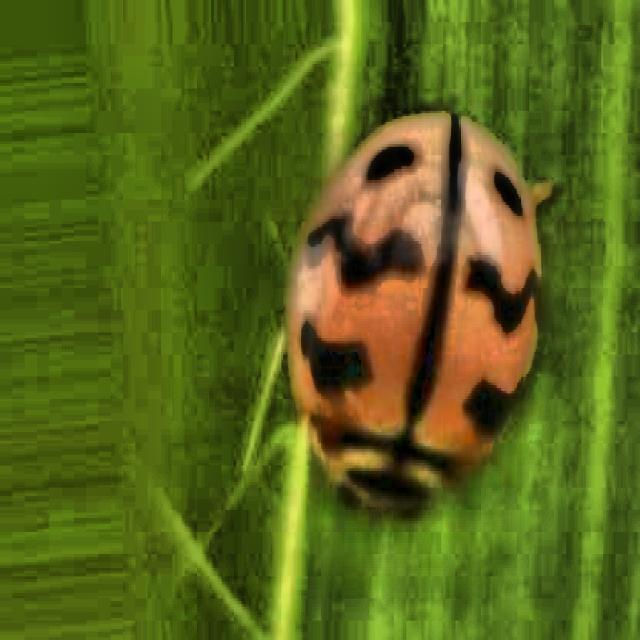Asian-Lady-beetle: (256, 73, 605, 590)
